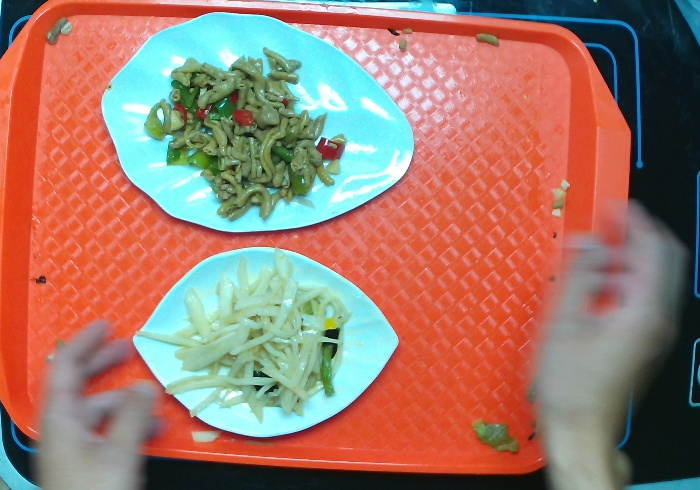RJxy-Bai_Ye_Pan: (97, 10, 418, 236)
RJxy-Da_Du_Pan: (119, 239, 403, 441)
